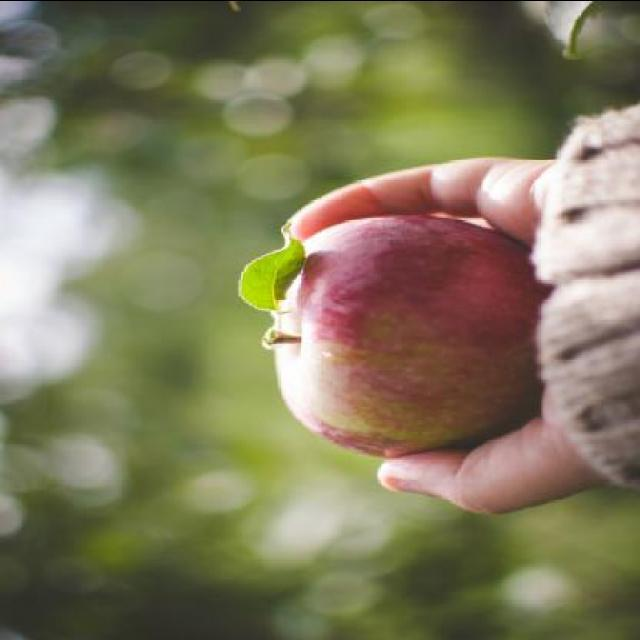Apple pie: (250, 216, 562, 458)
